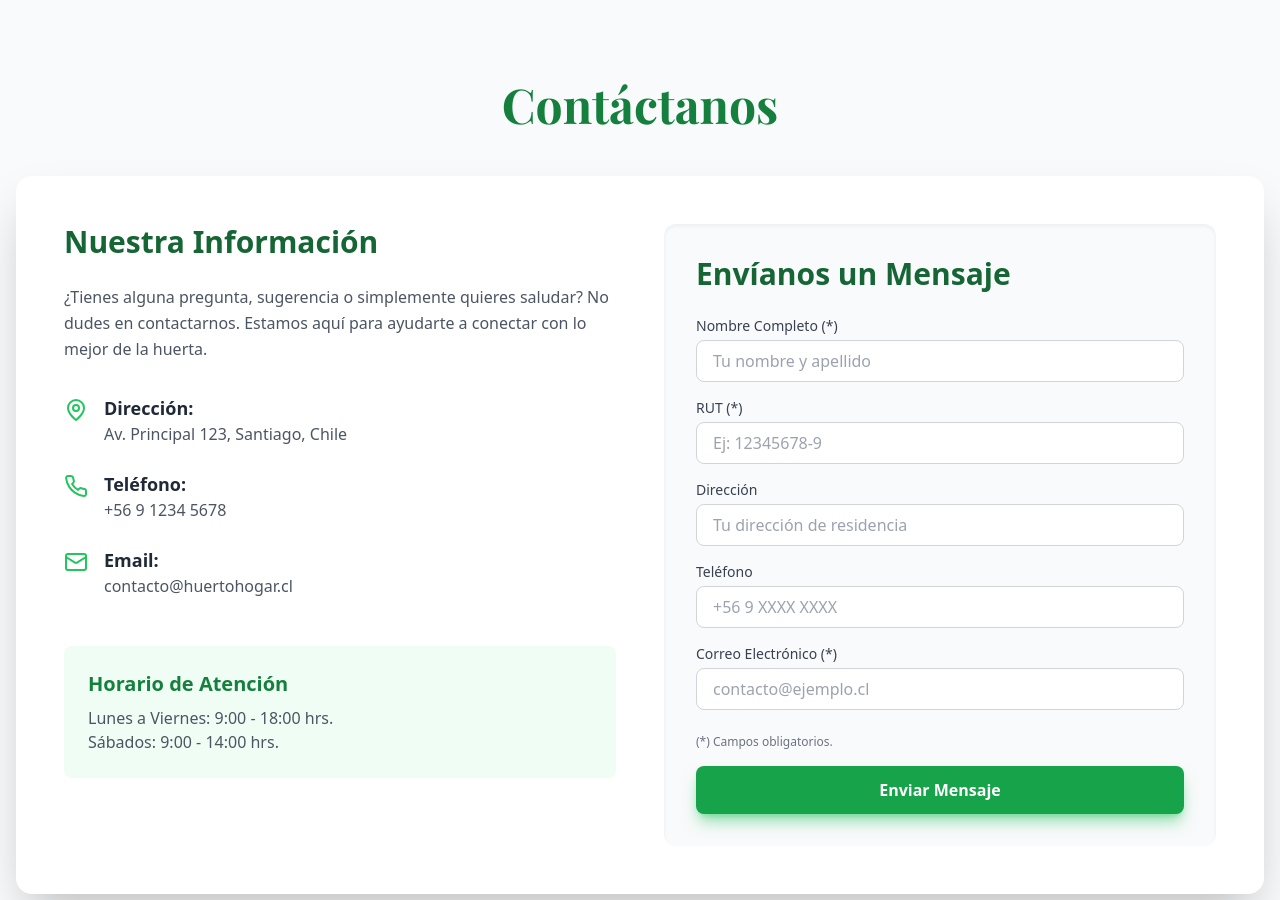
Componente Contacto › debería mostrar error con email inválido
This screenshot has width=1280, height=900.
Type "correo-invalido" into the field labelled "Correo Electrónico (*)" at (940, 689), box [696,668,1184,710]
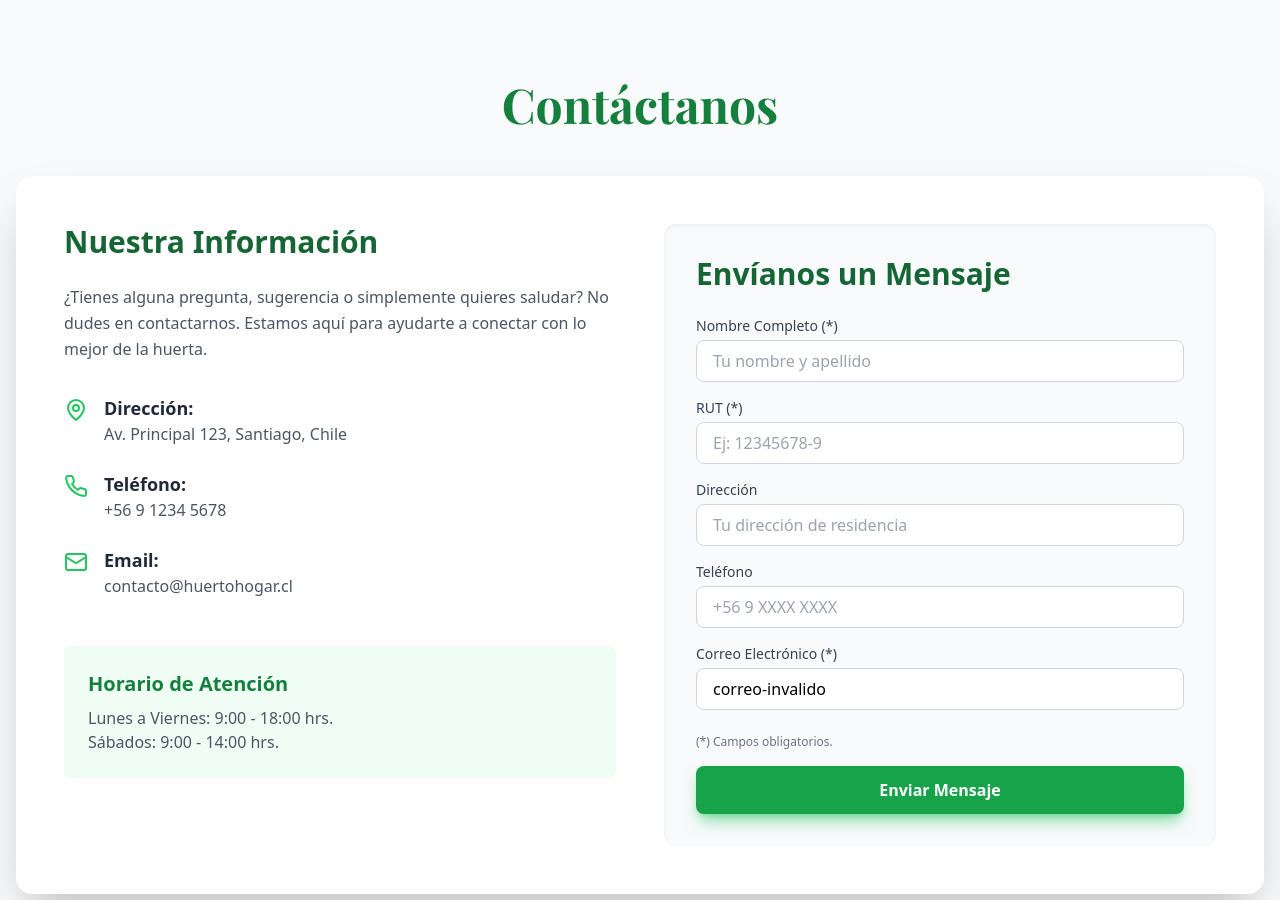
Click the button "Enviar Mensaje" at (940, 790), box [696,766,1184,814]
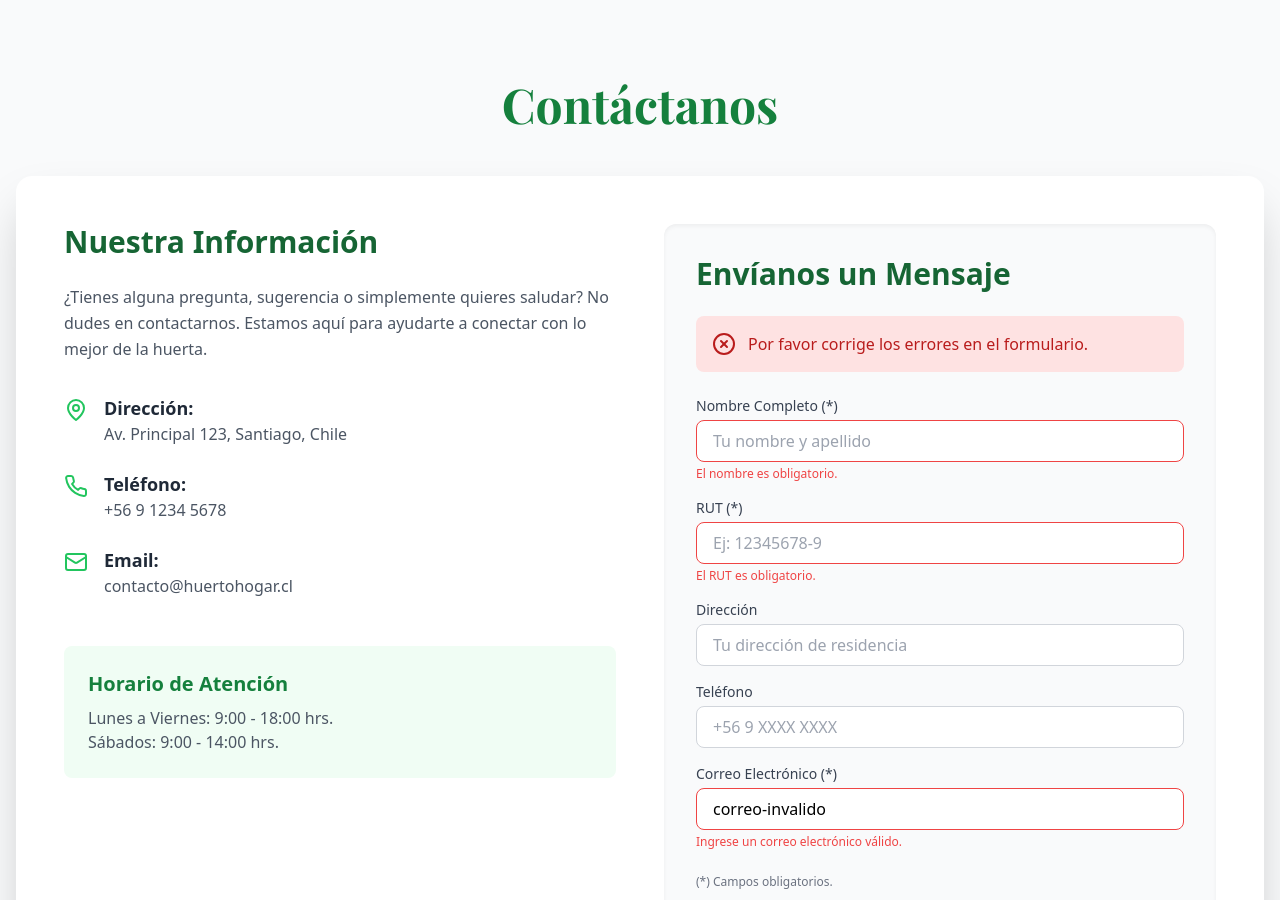
Result: the text "Ingrese un correo electrónico válido." is shown at [696,833,902,850]
